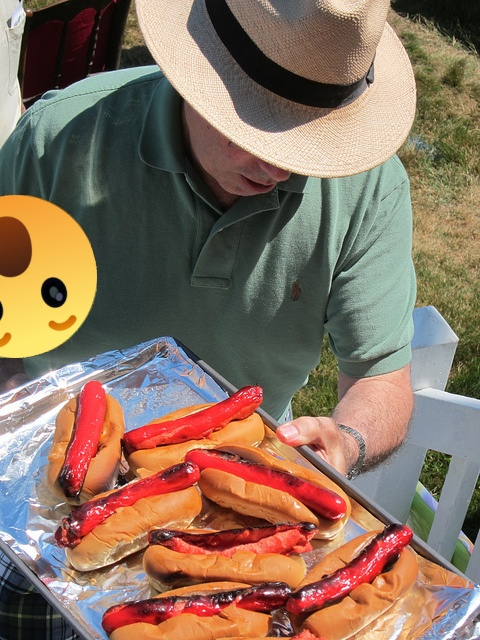wow: (0, 195, 97, 358)
